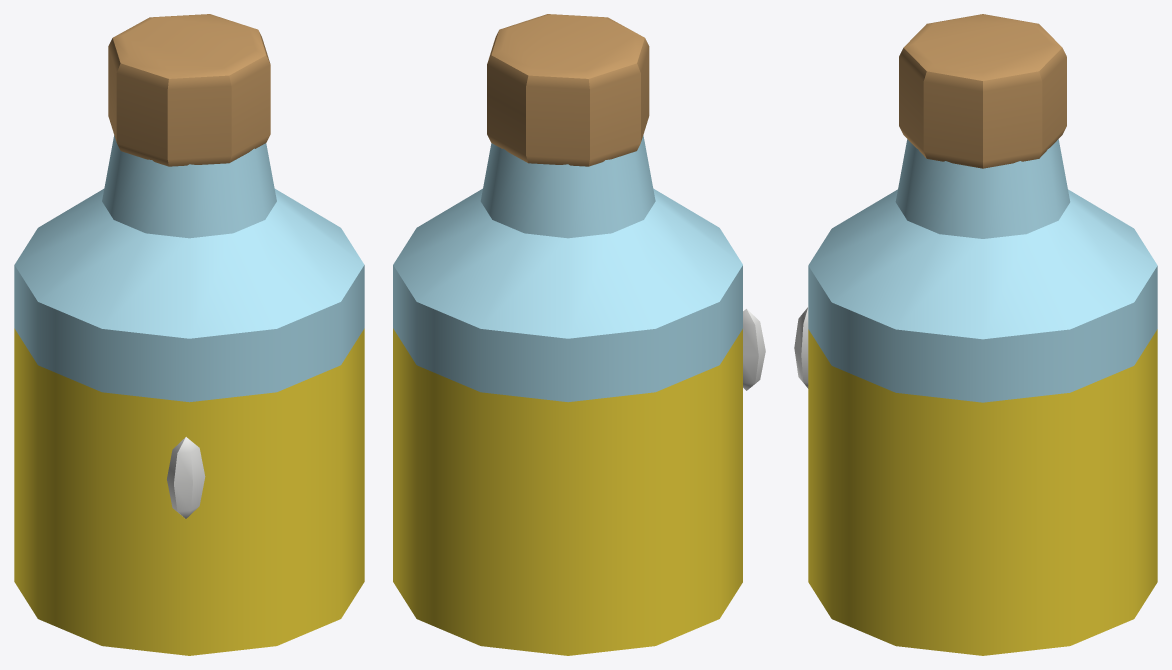
The model's file is SpeedPotion.fbx.
3 views of the same model, side by side, from view 1: azimuth 30°, elevation 25°; view 2: azimuth 150°, elevation 25°; view 3: azimuth 270°, elevation 25° (orthographic).
Visible parts, largest first — view 1: SpeedPotion; view 2: SpeedPotion; view 3: SpeedPotion.
Part boxes in pixels (<box>): SpeedPotion: <box>14,14,364,655</box>; SpeedPotion: <box>393,14,765,655</box>; SpeedPotion: <box>794,14,1157,655</box>.
Size of the model in its own units: 1 by 1.7 by 1.04.
Materials: 1 (1 with a texture image).
